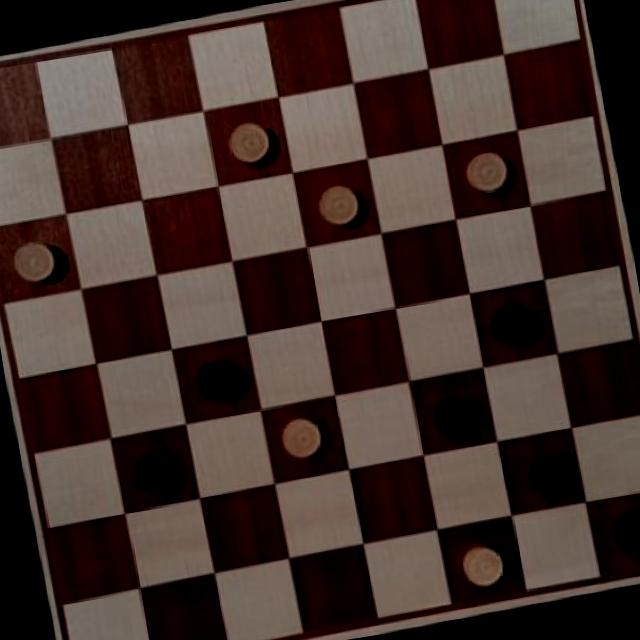BOARD: (0, 0, 640, 640)
black: (179, 343, 262, 418), (120, 432, 194, 506), (506, 438, 580, 508), (483, 288, 552, 352), (426, 378, 489, 448), (606, 501, 640, 561)
white: (214, 104, 284, 174), (447, 531, 517, 595), (0, 231, 68, 292), (451, 142, 517, 198), (272, 407, 332, 464), (312, 174, 368, 231)
